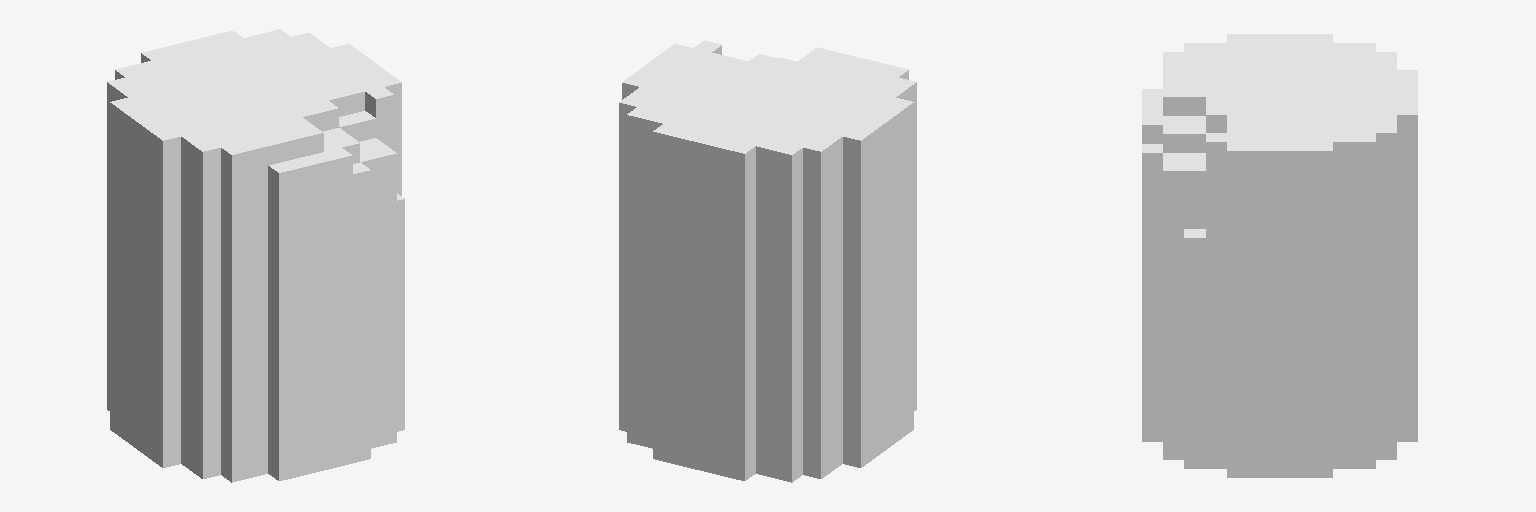
The model's file is VoxelNuke-4-Barrel-0.obj.
3 views of the same model, side by side, from view 1: azimuth 30°, elevation 25°; view 2: azimuth 150°, elevation 25°; view 3: azimuth 270°, elevation 25° (orthographic).
Parts seen in each view (by area): view 1: Barrel-0; view 2: Barrel-0; view 3: Barrel-0.
Part boxes in pixels (x1,y1,x2,y2): Barrel-0: (107, 29, 404, 482); Barrel-0: (619, 40, 916, 482); Barrel-0: (1142, 34, 1417, 477).
Size of the model in its own units: 0.26 by 0.34 by 0.26.